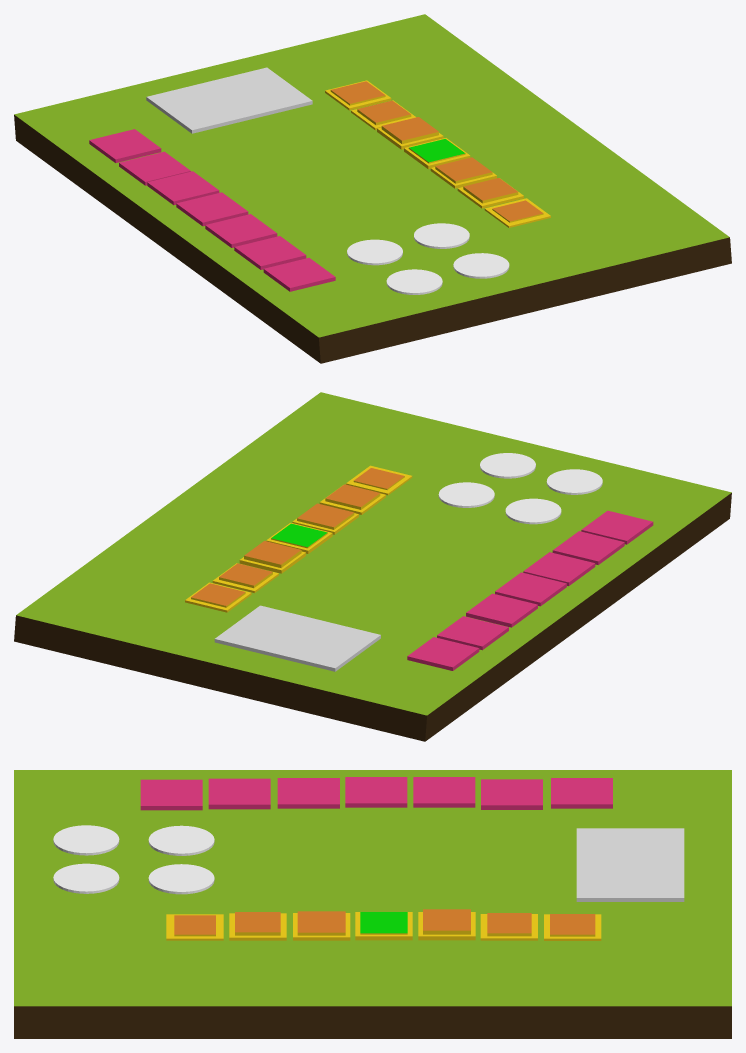
Rendered from BOARD INFRAS SINGLE.fbx.
3 renders of one model, top to bottom at view 1: azimuth 30°, elevation 25°; view 2: azimuth 150°, elevation 25°; view 3: azimuth 270°, elevation 25°, orthographic. The views are drawn at different scales.
Parts seen in each view (by area): view 1: BOARD, KARTU RUMOR, company performance, Plane.015, Plane.014, Plane.016, Plane.013, Plane.012, Plane.011, Plane.005, Plane.007, Plane.009 (+8 smaller); view 2: BOARD, KARTU RUMOR, Plane.015, Plane.012, Plane.016, Plane.013, Plane.011, company performance, Plane.014, Plane.005, Plane.007, Plane.009 (+8 smaller); view 3: BOARD, KARTU RUMOR, company performance, Plane.016, Plane.012, Plane.013, Plane.014, Plane.011, Plane.015, Plane.005, Plane.007, Plane.006 (+8 smaller).
Part boxes in pixels (bbox=[...]): BOARD: bbox=[14, 14, 731, 363]; KARTU RUMOR: bbox=[146, 67, 312, 133]; company performance: bbox=[263, 257, 335, 291]; Plane.015: bbox=[89, 129, 161, 162]; Plane.014: bbox=[205, 214, 277, 247]; Plane.016: bbox=[234, 236, 306, 269]; Plane.013: bbox=[176, 192, 248, 226]; Plane.012: bbox=[147, 171, 219, 205]; Plane.011: bbox=[119, 151, 190, 185]; Plane.005: bbox=[377, 117, 443, 149]; Plane.007: bbox=[430, 157, 496, 188]; Plane.009: bbox=[457, 178, 523, 208]; BOARD: bbox=[14, 392, 731, 741]; KARTU RUMOR: bbox=[214, 605, 380, 671]; Plane.015: bbox=[407, 637, 479, 670]; Plane.012: bbox=[466, 593, 537, 627]; Plane.016: bbox=[552, 531, 624, 564]; Plane.013: bbox=[495, 572, 566, 606]; Plane.011: bbox=[437, 616, 508, 650]; company performance: bbox=[581, 510, 653, 544]; Plane.014: bbox=[523, 552, 595, 586]; Plane.005: bbox=[239, 541, 305, 573]; Plane.007: bbox=[292, 503, 358, 534]; Plane.009: bbox=[319, 484, 385, 514]; BOARD: bbox=[14, 770, 731, 1038]; KARTU RUMOR: bbox=[576, 828, 684, 901]; company performance: bbox=[140, 779, 202, 810]; Plane.016: bbox=[208, 778, 270, 809]; Plane.012: bbox=[413, 777, 475, 807]; Plane.013: bbox=[345, 777, 407, 807]; Plane.014: bbox=[277, 778, 339, 808]; Plane.011: bbox=[481, 779, 542, 809]; Plane.015: bbox=[551, 778, 612, 808]; Plane.005: bbox=[418, 909, 475, 940]; Plane.007: bbox=[293, 911, 350, 940]; Plane.006: bbox=[355, 912, 412, 940].
Size of the model in its own units: 47852 by 3735 by 61161.
